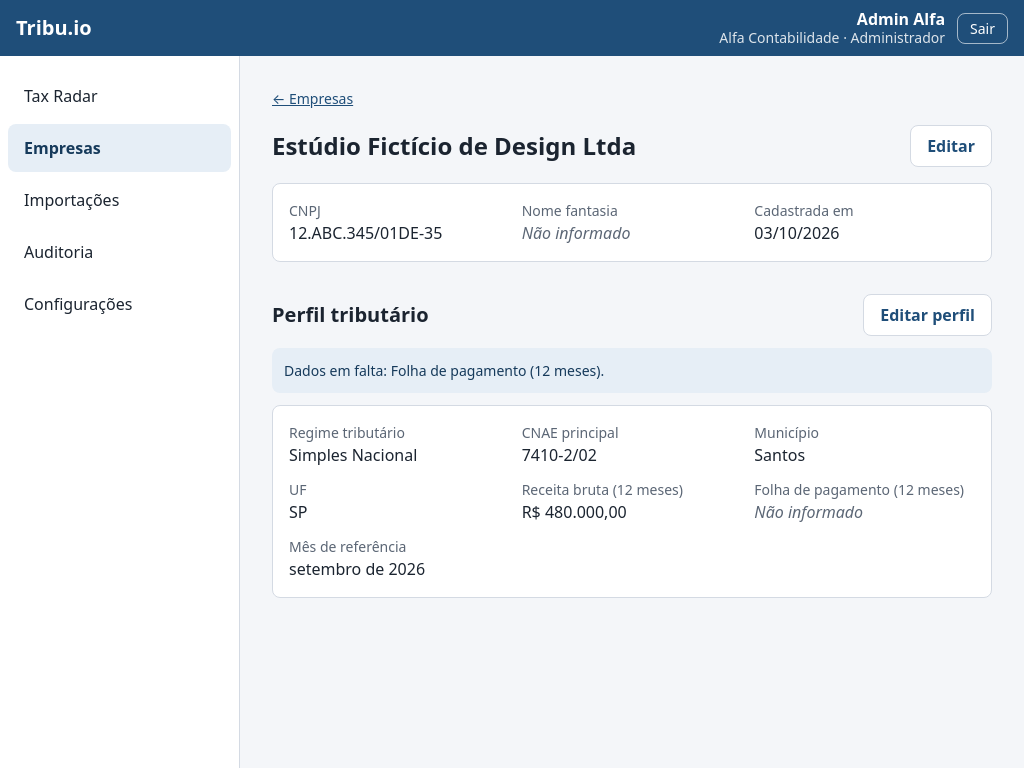
perfil tributário › apagar os dados e escolher "Não informado" envia null, nunca texto vazio
Click the button "Editar perfil" at (928, 315), box [863,294,992,336]
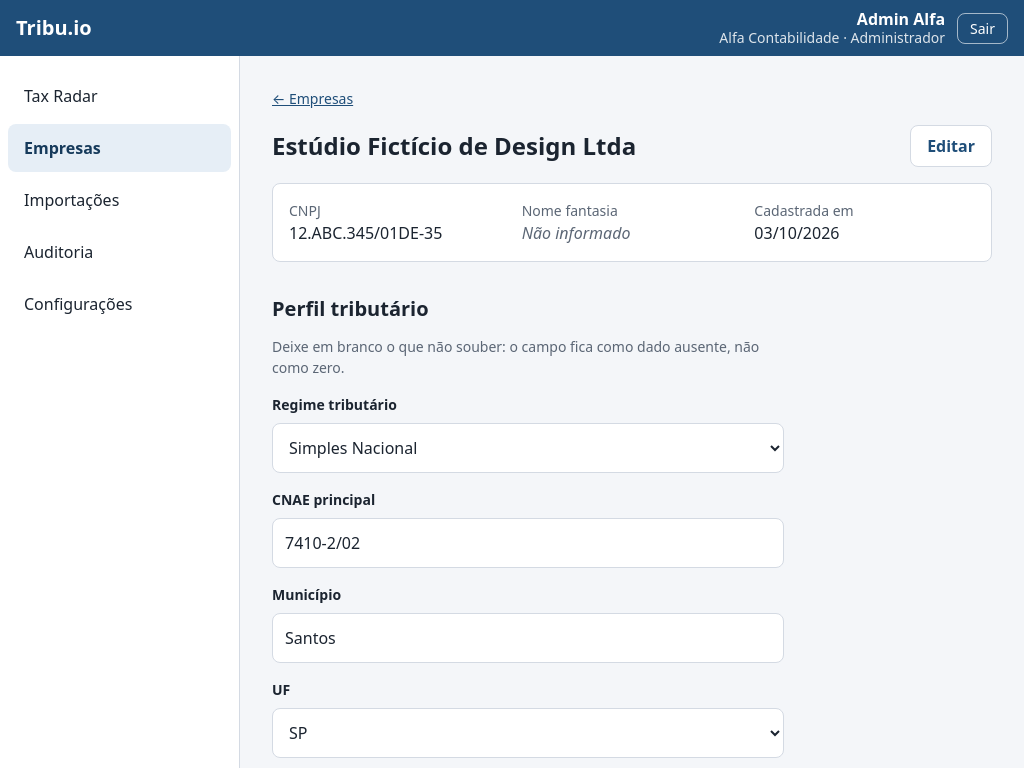
Select "Não informado" in the dropdown labelled "Regime tributário" at (528, 448), box [272,423,784,473]
Clear the field labelled "CNAE principal" at (528, 543), box [272,518,784,568]
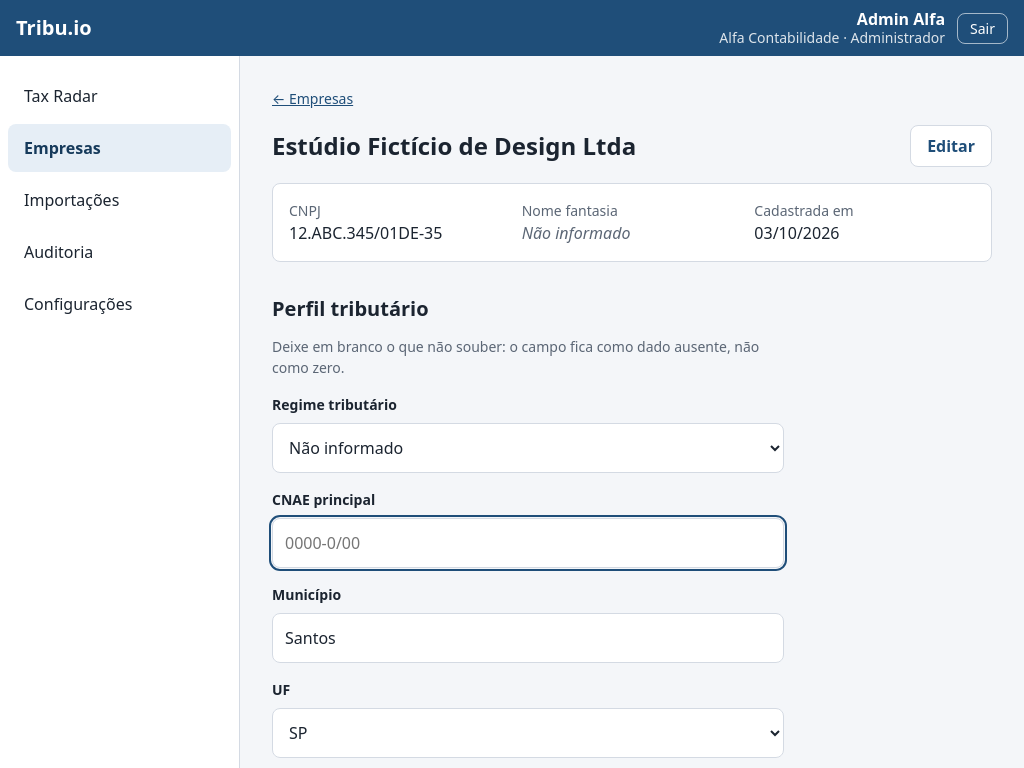
Clear the field labelled "Município" at (528, 638), box [272,613,784,663]
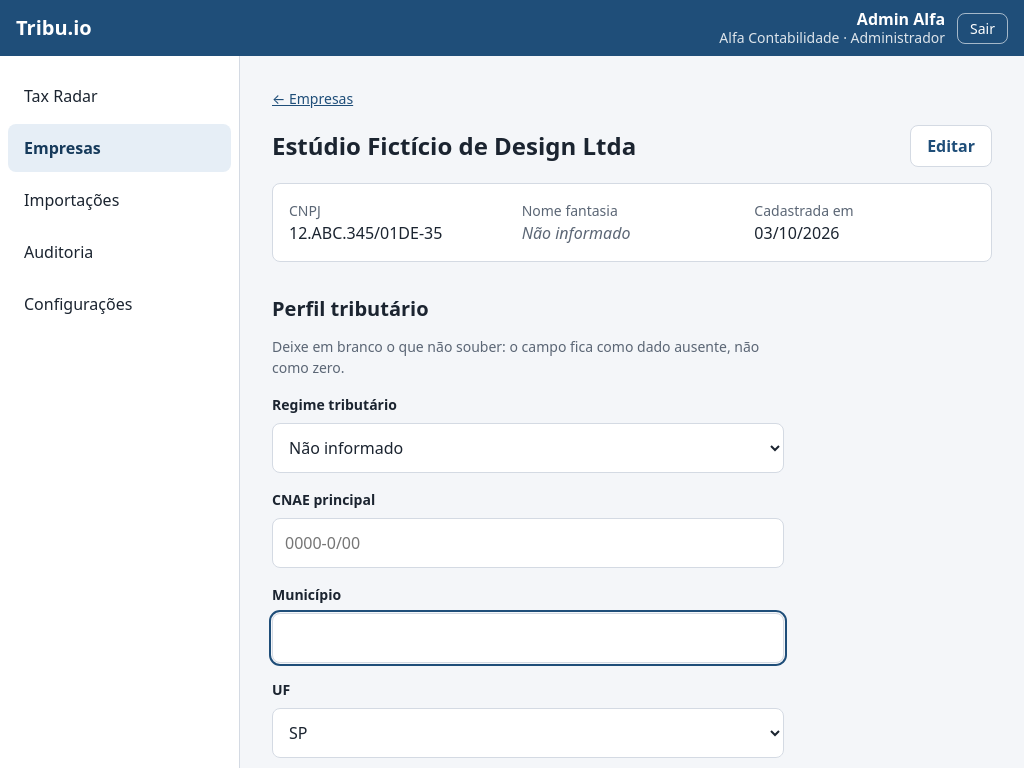
Select "Não informado" in the dropdown labelled "UF" at (528, 733), box [272,708,784,758]
(page scrolled)
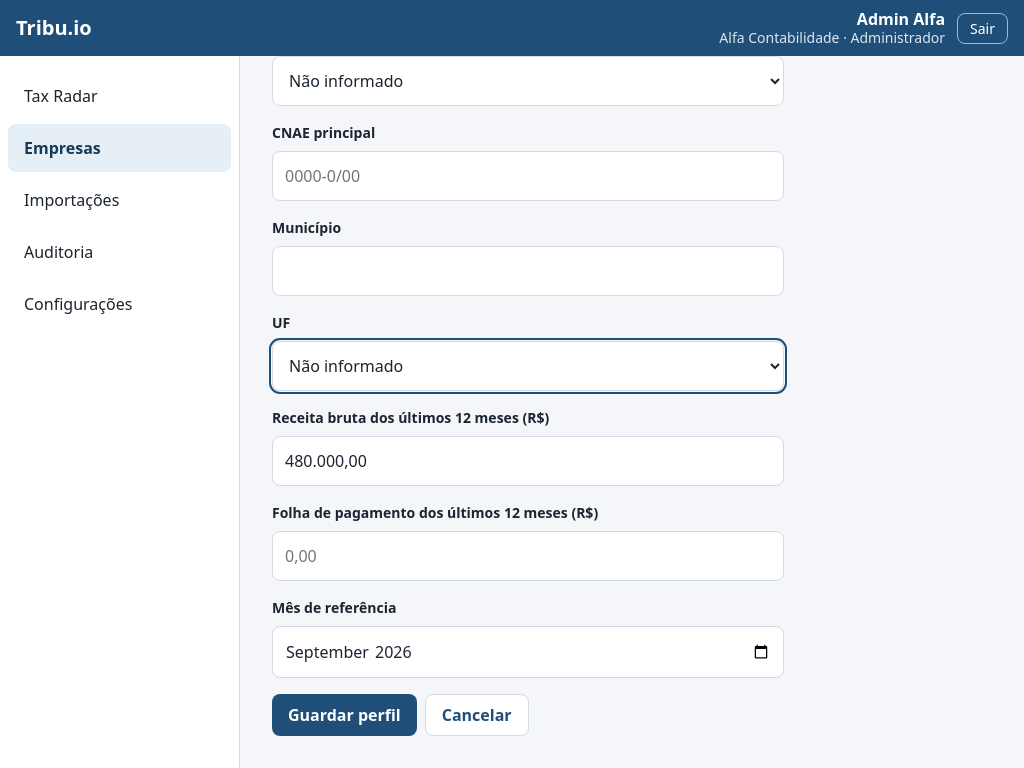
Clear the field labelled "Receita bruta dos últimos 12 meses (R$)" at (528, 461), box [272,436,784,486]
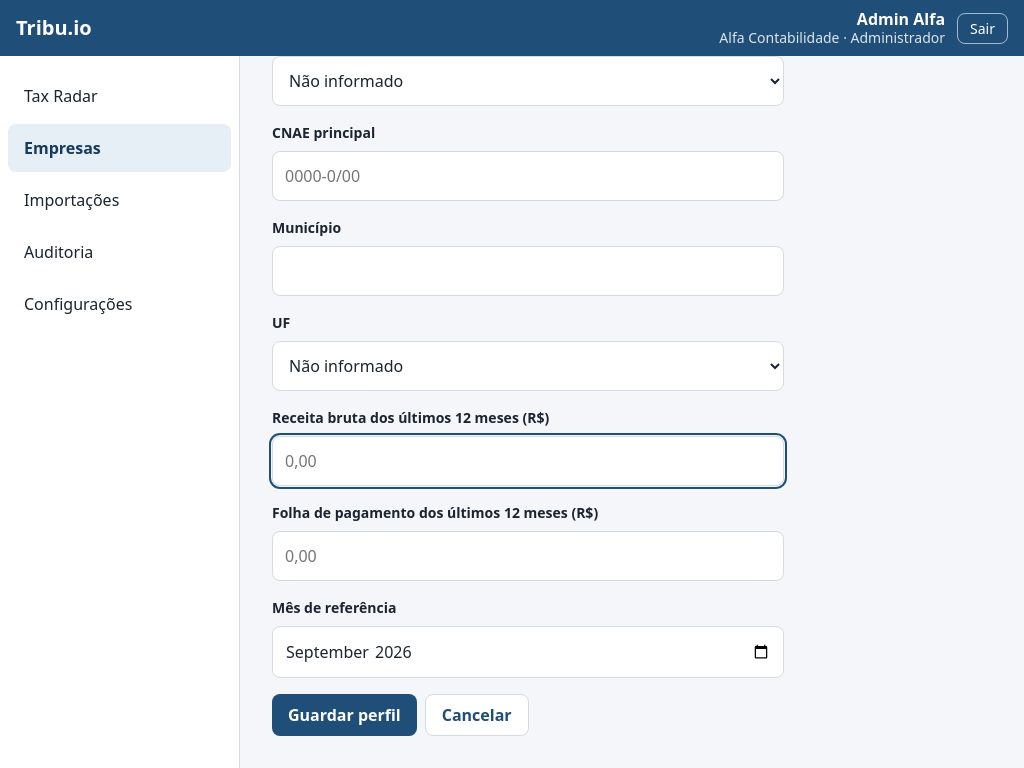
Clear the field labelled "Mês de referência" at (528, 652), box [272,626,784,678]
Click the button "Guardar perfil" at (344, 715), box [272,694,417,736]
(page scrolled)
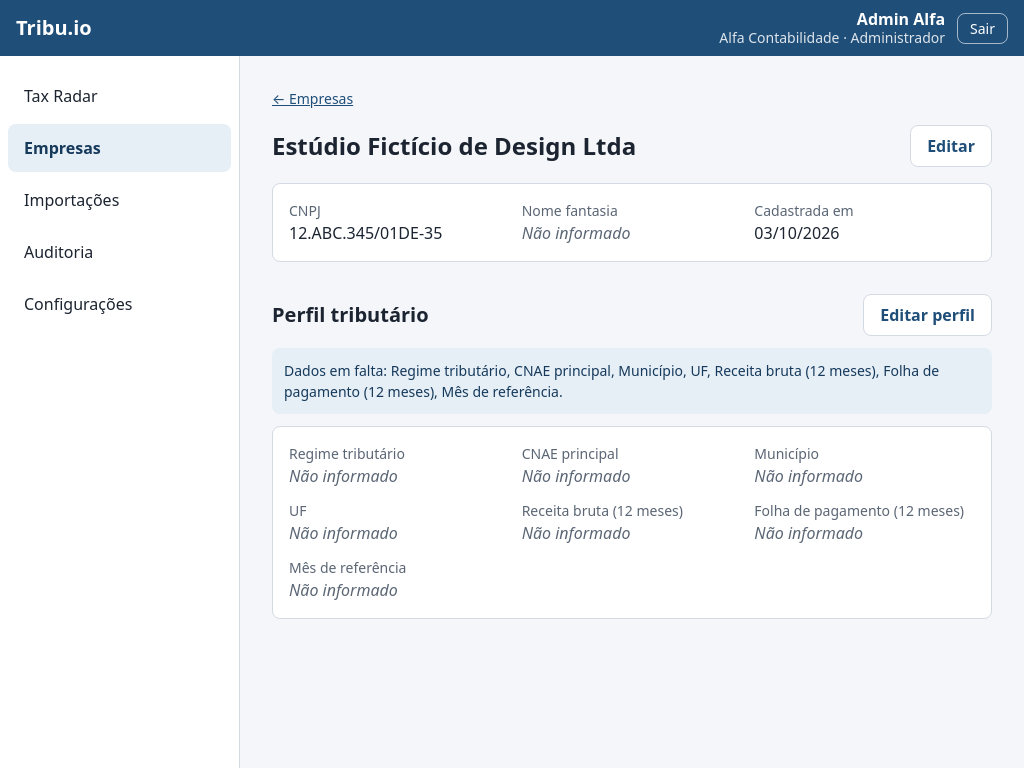
Expected: the text "Dados em falta" is shown, [284,361,391,380]
